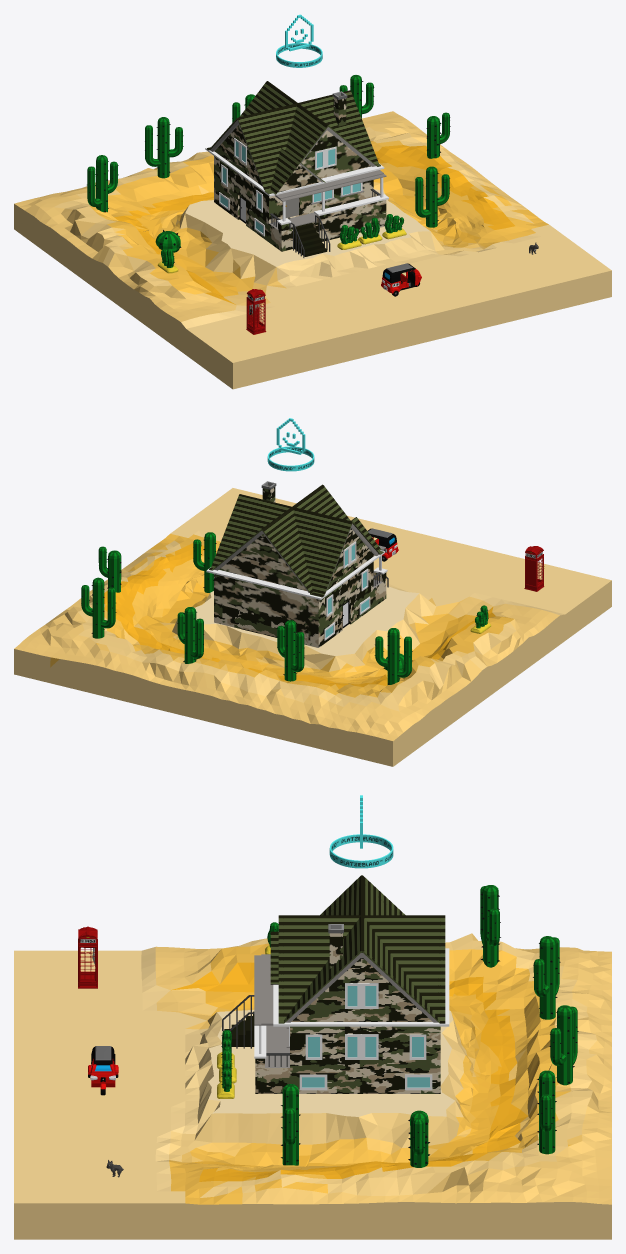
The picture shows the model from 3 angles, top to bottom: view 1: azimuth 30°, elevation 25°; view 2: azimuth 150°, elevation 25°; view 3: azimuth 270°, elevation 25°; orthographic projection. The views are drawn at different scales.
Visible parts, largest first — view 1: Cube.001, Cube.002, Cylinder.044, Cylinder.037, Cylinder.045, TYPE_PREMIUM, VEHICLES_TUC_TUC, OBJRANDOM_PHONEBOOTH, Cylinder.038, Cylinder.042; view 2: Cube.001, Cube.002, Cylinder.042, Cylinder.045, Cylinder.044, Cylinder.043, TYPE_PREMIUM, Cylinder.037, OBJRANDOM_PHONEBOOTH, Cylinder.038, VEHICLES_TUC_TUC; view 3: Cube.001, Cube.002, Cylinder.044, Cylinder.043, Cylinder.045, Cylinder.042, Cylinder.037, TYPE_PREMIUM, VEHICLES_TUC_TUC, OBJRANDOM_PHONEBOOTH, Cylinder.038.
Part boxes in pixels (box(x1,y1,x2,y2)): Cube.001: box(14, 111, 611, 389); Cube.002: box(205, 81, 388, 257); Cylinder.044: box(145, 117, 183, 178); Cylinder.037: box(415, 166, 449, 227); Cylinder.045: box(87, 155, 118, 212); TYPE_PREMIUM: box(276, 14, 322, 67); VEHICLES_TUC_TUC: box(381, 263, 421, 296); OBJRANDOM_PHONEBOOTH: box(246, 289, 266, 334); Cylinder.038: box(426, 112, 450, 158); Cylinder.042: box(339, 75, 374, 118); Cube.001: box(14, 488, 611, 766); Cube.002: box(206, 481, 388, 647); Cylinder.042: box(81, 577, 116, 638); Cylinder.045: box(374, 628, 412, 684); Cylinder.044: box(277, 620, 304, 681); Cylinder.043: box(177, 607, 203, 663); TYPE_PREMIUM: box(267, 418, 314, 471); Cylinder.037: box(193, 532, 219, 592); OBJRANDOM_PHONEBOOTH: box(524, 546, 544, 591); Cylinder.038: box(98, 546, 121, 592); VEHICLES_TUC_TUC: box(367, 528, 398, 561); Cube.001: box(14, 933, 611, 1239); Cube.002: box(222, 875, 449, 1093); Cylinder.044: box(533, 936, 560, 1019); Cylinder.043: box(549, 1005, 578, 1085); Cylinder.045: box(480, 885, 500, 967); Cylinder.042: box(537, 1070, 556, 1154); Cylinder.037: box(281, 1084, 300, 1165); TYPE_PREMIUM: box(329, 795, 393, 868); VEHICLES_TUC_TUC: box(88, 1046, 118, 1095); OBJRANDOM_PHONEBOOTH: box(78, 926, 97, 988); Cylinder.038: box(408, 1110, 429, 1167).
Size of the model in its own units: 4002 by 2410 by 4001.
Materials: 42 (5 with a texture image).
